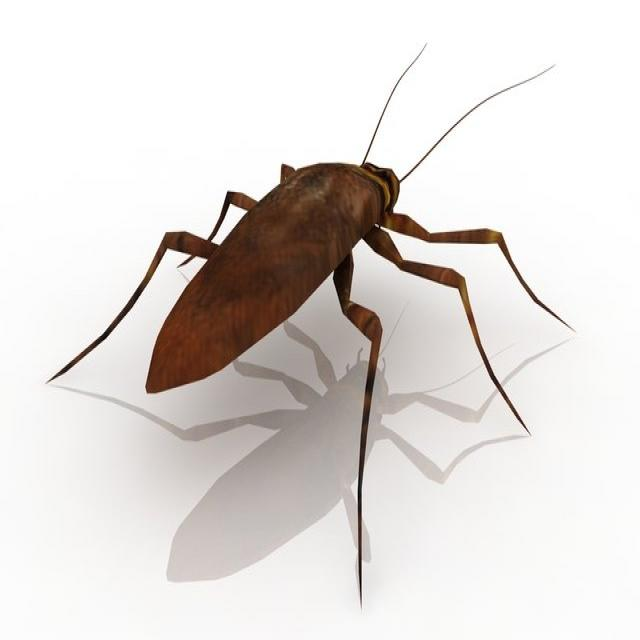Cockroach: (39, 35, 585, 615)
